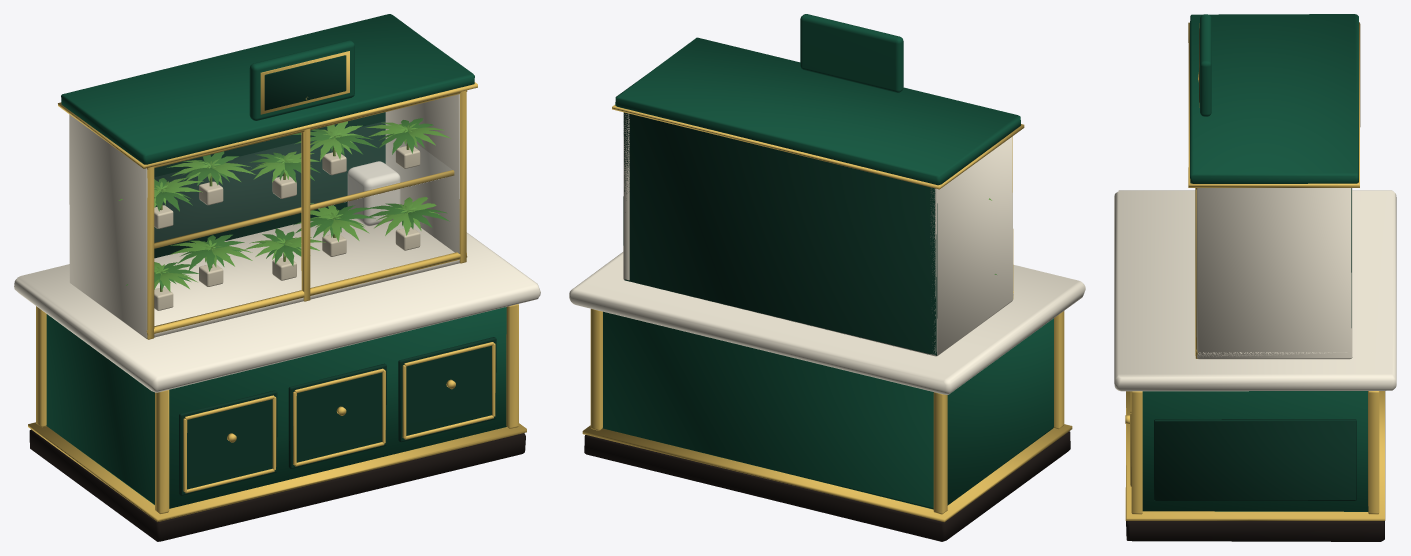
The model's file is seeds_bench_founder.glb.
3 renders of one model, left to right at view 1: azimuth 30°, elevation 25°; view 2: azimuth 150°, elevation 25°; view 3: azimuth 270°, elevation 25°, orthographic.
Visible parts, largest first — view 1: Body, Top, CabTop, CabSide-1, CabFloor, CabBack, Plinth, Panel1, Panel2, Panel0, CabSide1, PlinthBrass (+14 smaller); view 2: CabBack, Body, CabTop, Top, CabSide-1, Plinth, Crest, PlinthBrass, CabTopBand, Corner-11, Corner11, Corner-1-1 (+1 smaller); view 3: Top, CabTop, CabSide1, EndPanel, Body, Plinth, PlinthBrass, Corner1-1, Corner11, CabTopBand, Crest.
Boxes of the visible parts, x1,y1,x2,y2 form: Body: (46, 307, 506, 508); Top: (14, 232, 540, 392); CabTop: (61, 14, 474, 164); CabSide-1: (69, 114, 147, 338); CabFloor: (102, 218, 459, 338); CabBack: (154, 112, 385, 258); Plinth: (29, 429, 525, 541); Panel1: (288, 363, 386, 468); Panel2: (398, 337, 496, 442); Panel0: (179, 390, 277, 495); CabSide1: (385, 94, 459, 253); PlinthBrass: (28, 422, 526, 521); CabBack: (623, 112, 937, 355); Body: (603, 311, 1053, 509); CabTop: (615, 37, 1020, 185); Top: (569, 252, 1085, 394); CabSide-1: (930, 136, 1012, 356); Plinth: (584, 431, 1070, 541); Crest: (800, 14, 903, 92); PlinthBrass: (582, 424, 1072, 522); CabTopBand: (612, 105, 1024, 189); Corner-11: (933, 392, 947, 514); Corner11: (590, 309, 602, 430); Corner-1-1: (1053, 311, 1064, 429); Top: (1114, 190, 1396, 391); CabTop: (1190, 14, 1358, 183); CabSide1: (1196, 188, 1352, 359); EndPanel: (1154, 419, 1356, 500); Body: (1142, 391, 1368, 511); Plinth: (1126, 521, 1384, 541); PlinthBrass: (1125, 391, 1385, 520); Corner1-1: (1131, 391, 1142, 514); Corner11: (1368, 391, 1379, 514); CabTopBand: (1188, 22, 1360, 187); Crest: (1200, 14, 1211, 116).
Bounding box in the file's own units: 1.89 × 1.94 × 1.19.
